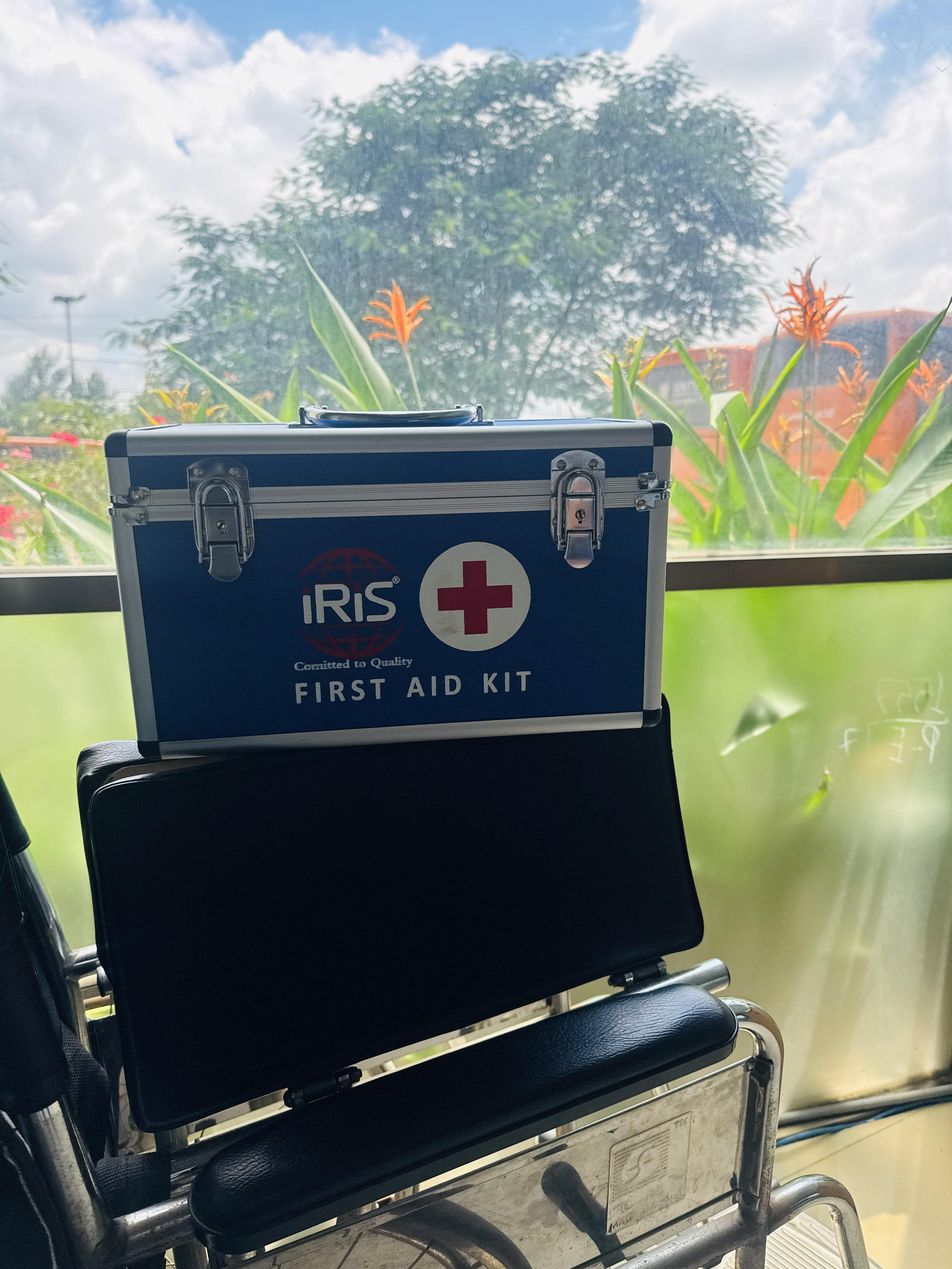FirstAidBox: (82, 374, 705, 765)
